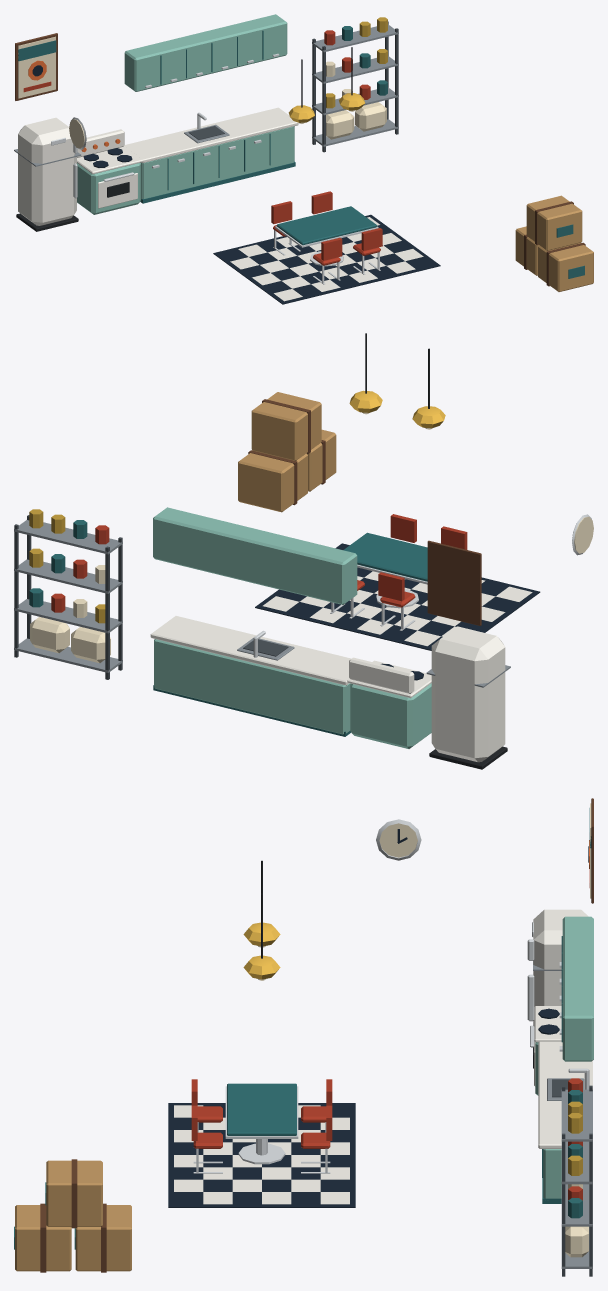
Rendered from Room_Kitchen_L1.fbx.
3 renders of one model, top to bottom at view 1: azimuth 30°, elevation 25°; view 2: azimuth 150°, elevation 25°; view 3: azimuth 270°, elevation 25°, orthographic. The views are drawn at different scales.
Visible parts, largest first — view 1: Counter, Rug, WallCabinets, Shelves, Fridge, Crates, Stove, Table, Poster, Chairs, Lamps, Clock; view 2: Counter, Shelves, WallCabinets, Fridge, Crates, Rug, Stove, Poster, Table, Chairs, Lamps, Clock; view 3: Rug, Crates, Shelves, Table, WallCabinets, Counter, Fridge, Chairs, Clock, Lamps, Stove.
Boxes of the visible parts, bbox=[...] form: Counter: bbox=[124, 107, 298, 203]; Rug: bbox=[213, 214, 440, 304]; WallCabinets: bbox=[124, 14, 287, 91]; Shelves: bbox=[312, 17, 398, 152]; Fridge: bbox=[14, 117, 81, 231]; Crates: bbox=[515, 195, 593, 291]; Stove: bbox=[77, 129, 143, 214]; Table: bbox=[275, 206, 378, 266]; Poster: bbox=[15, 33, 57, 100]; Chairs: bbox=[271, 191, 382, 284]; Lamps: bbox=[288, 47, 365, 122]; Clock: bbox=[69, 117, 86, 149]; Counter: bbox=[150, 616, 351, 736]; Shelves: bbox=[14, 509, 122, 679]; WallCabinets: bbox=[153, 507, 357, 604]; Fridge: bbox=[426, 626, 510, 769]; Crates: bbox=[238, 392, 336, 512]; Rug: bbox=[255, 543, 540, 650]; Stove: bbox=[347, 657, 431, 748]; Poster: bbox=[427, 540, 481, 625]; Table: bbox=[343, 532, 427, 608]; Chairs: bbox=[330, 514, 467, 630]; Lamps: bbox=[349, 333, 445, 428]; Clock: bbox=[572, 514, 593, 555]; Rug: bbox=[168, 1103, 355, 1207]; Crates: bbox=[14, 1159, 131, 1272]; Shelves: bbox=[561, 1078, 592, 1276]; Table: bbox=[225, 1083, 298, 1164]; WallCabinets: bbox=[559, 916, 593, 1061]; Counter: bbox=[538, 1041, 592, 1203]; Fridge: bbox=[527, 909, 588, 1025]; Chairs: bbox=[191, 1079, 332, 1173]; Clock: bbox=[376, 819, 421, 860]; Lamps: bbox=[243, 860, 280, 979]; Stove: bbox=[530, 1006, 561, 1095].
Size of the model in its own units: 30.52 by 15.77 by 29.7.
